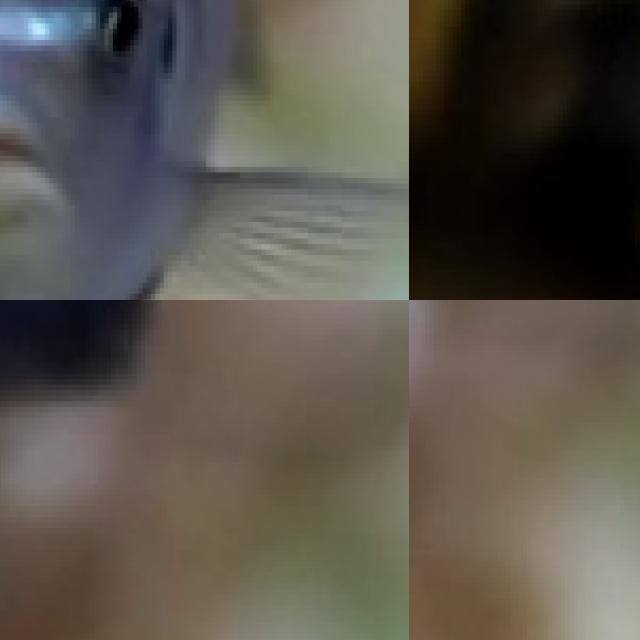fish: (0, 0, 409, 300), (409, 0, 640, 300)
